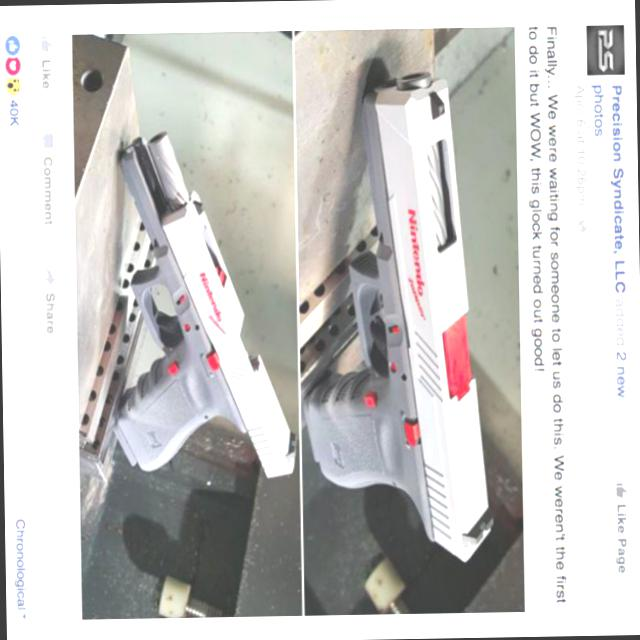handgun: (298, 60, 502, 577), (104, 127, 298, 480)
